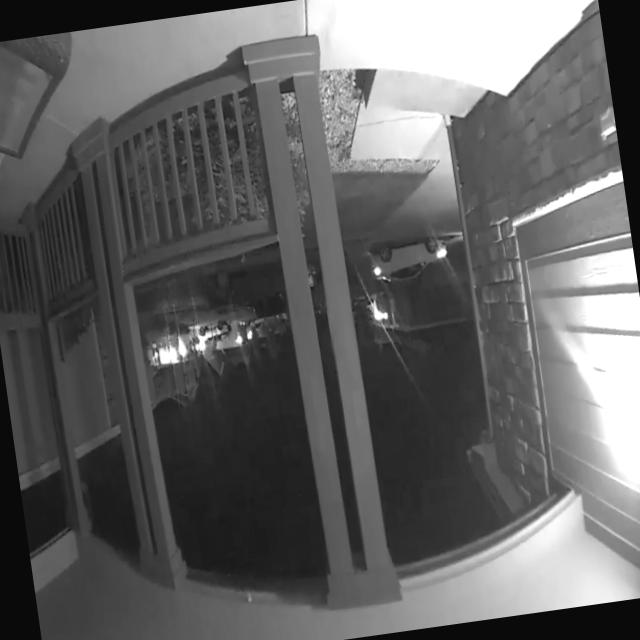car: (199, 241, 335, 328), (357, 227, 458, 296), (188, 313, 241, 352)
